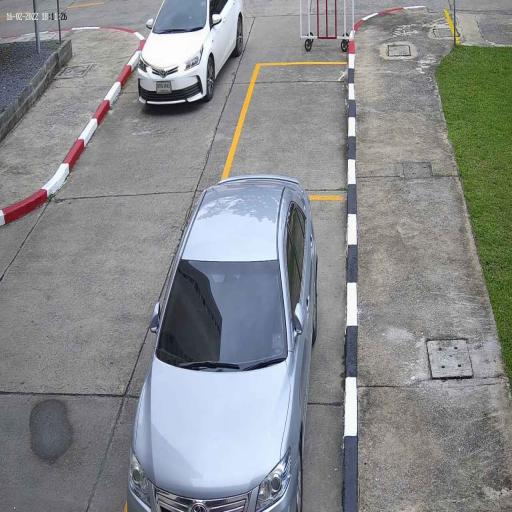car: (124, 174, 319, 508), (136, 1, 245, 108)
